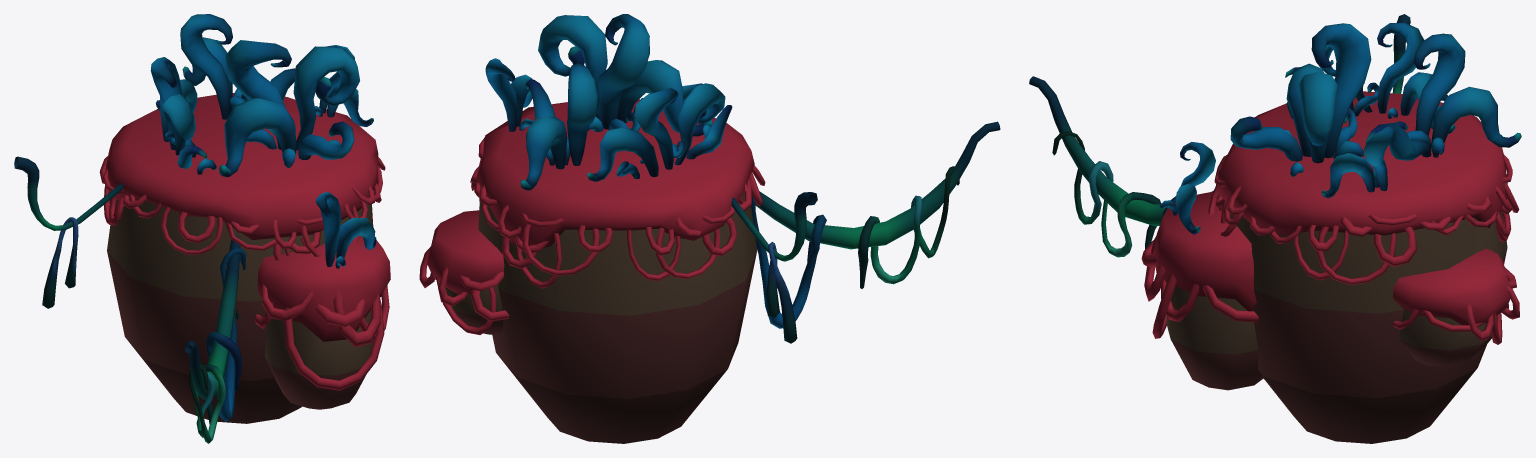
The model's file is Alien_Island12.fbx.
3 views of the same model, side by side, from view 1: azimuth 30°, elevation 25°; view 2: azimuth 150°, elevation 25°; view 3: azimuth 270°, elevation 25° (orthographic). The views are drawn at different scales.
Visible parts, largest first — view 1: Alien_Island12; view 2: Alien_Island12; view 3: Alien_Island12.
Part boxes in pixels (<box>): Alien_Island12: <box>14,14,390,443</box>; Alien_Island12: <box>419,14,1000,443</box>; Alien_Island12: <box>1029,14,1521,443</box>.
Size of the model in its own units: 12947 by 13609 by 14946.
